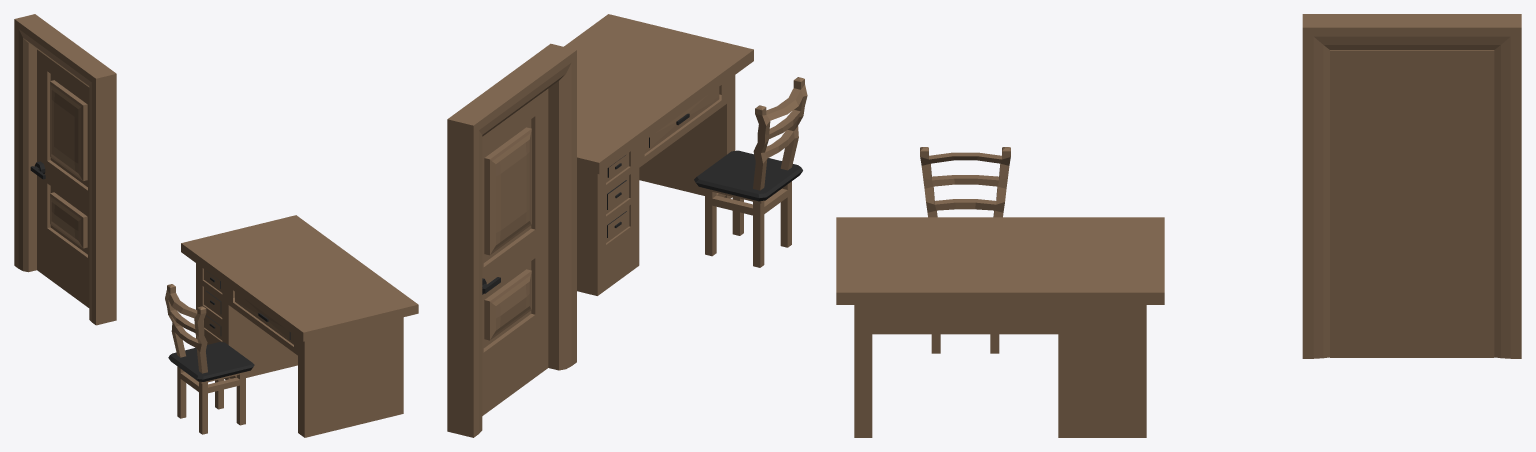
Rendered from wood_furniture.fbx.
The picture shows the model from 3 angles, left to right: view 1: azimuth 30°, elevation 25°; view 2: azimuth 150°, elevation 25°; view 3: azimuth 270°, elevation 25°; orthographic projection. The views are drawn at different scales.
Visible parts, largest first — view 1: table, doorframe, innerdoor, chair, cekmece; view 2: table, doorframe, innerdoor, chair, cekmece; view 3: innerdoor, table, doorframe, chair.
Boxes of the visible parts, x1,y1,x2,y2 form: table: (181, 215, 418, 437); doorframe: (14, 14, 116, 325); innerdoor: (30, 49, 89, 307); chair: (165, 284, 254, 434); cekmece: (235, 292, 293, 344); table: (564, 14, 753, 295); doorframe: (447, 43, 576, 437); innerdoor: (482, 89, 548, 415); chair: (694, 77, 807, 267); cekmece: (644, 87, 719, 153); innerdoor: (1330, 50, 1494, 357); table: (836, 217, 1164, 437); doorframe: (1302, 14, 1521, 358); chair: (920, 147, 1010, 353).
Bounding box in the file's own units: 822 × 1000 × 1872.
